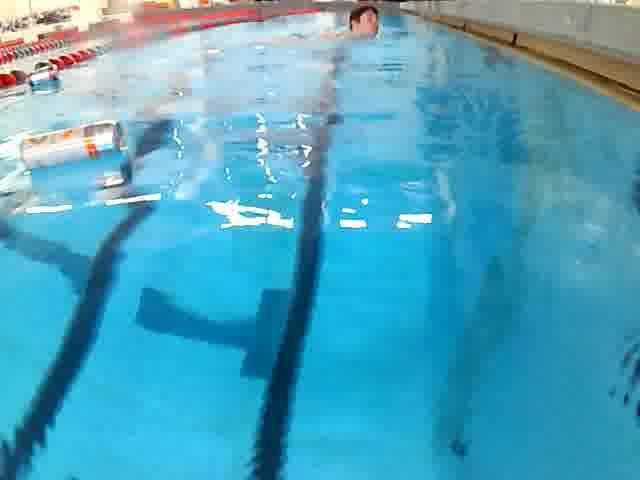Can: (12, 115, 130, 179), (18, 66, 66, 94)
